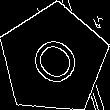O_SE: (21, 26, 86, 93)
